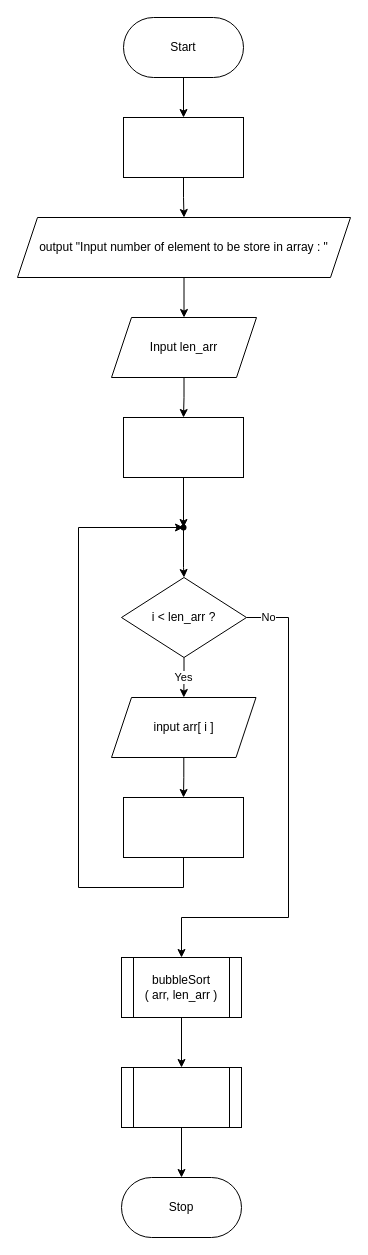
Image size: 368x1255. Some labels were removed from this diagram. Here are the shapes that lost their labels. From the top down, the box of each, then its label:
(122, 116, 244, 178): len_arr = 0 sum = 0 arr[ 100 ]
(122, 416, 244, 478): i = 0
(122, 796, 244, 858): i = i + 1
(120, 1066, 242, 1128): printArray ( arr, len_arr )
